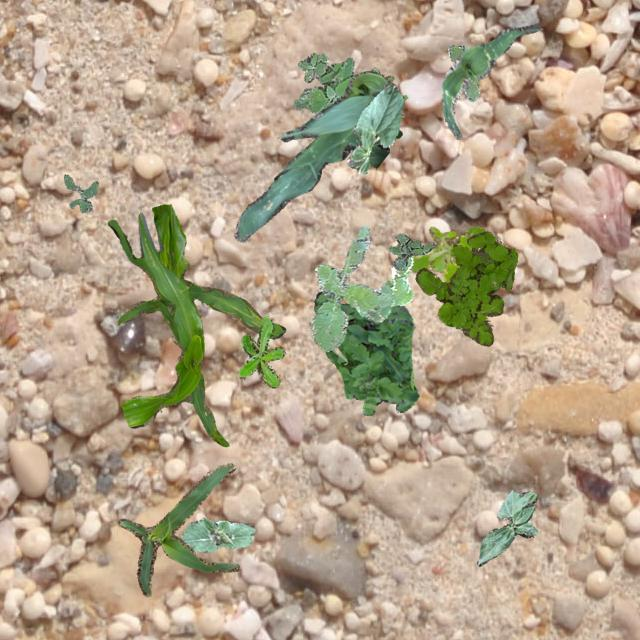crop: (106, 204, 284, 446), (234, 70, 400, 240), (118, 462, 238, 594), (440, 23, 540, 138), (346, 81, 402, 172), (476, 488, 536, 566), (178, 516, 254, 552)
weed: (312, 290, 418, 414), (308, 224, 412, 350), (414, 230, 516, 344), (408, 224, 484, 282), (292, 52, 352, 114), (238, 314, 284, 386), (368, 66, 404, 118), (446, 44, 478, 100), (386, 232, 434, 268), (62, 174, 98, 212)
